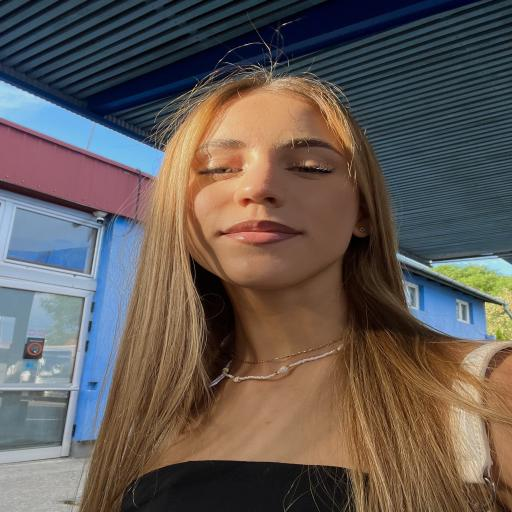masa: (186, 87, 360, 279)
